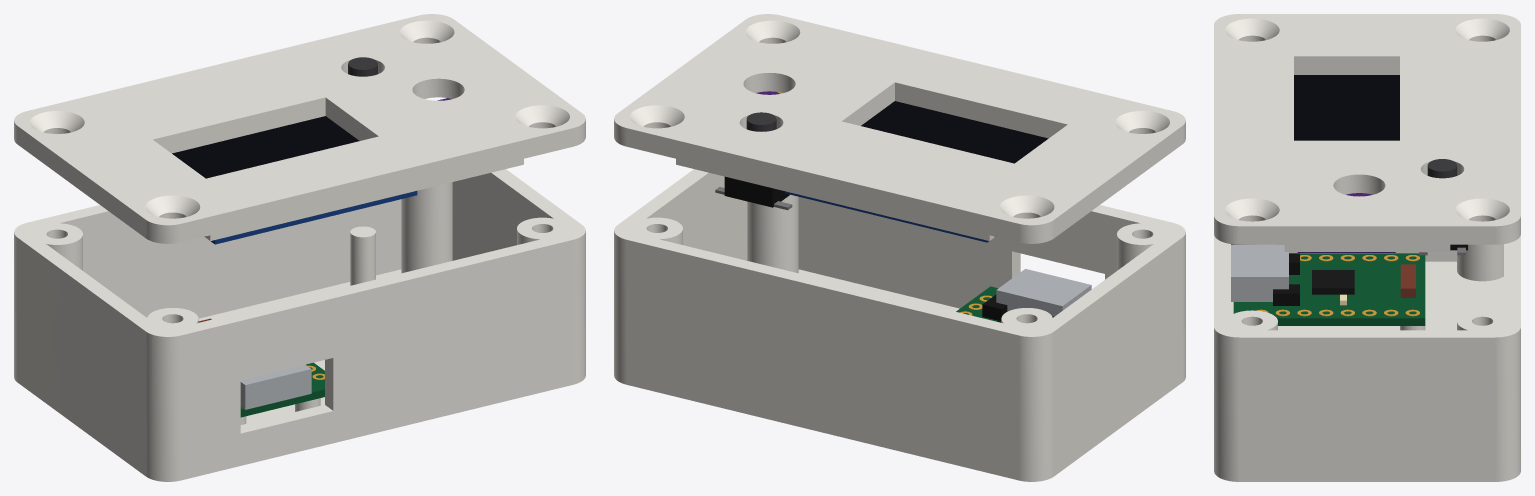
The model's file is assembly.glb.
3 views of the same model, side by side, from view 1: azimuth 30°, elevation 25°; view 2: azimuth 150°, elevation 25°; view 3: azimuth 270°, elevation 25° (orthographic).
Parts seen in each view (by area): view 1: body, lid, part:oled:display-glass, part:mcu:connector-steel, part:oled:pcb-blue, part:mcu:pcb-green; view 2: body, lid, part:oled:display-glass, part:mcu:connector-steel, part:btn:button-body; view 3: lid, body, part:mcu:pcb-green, part:oled:display-glass, part:mcu:connector-steel, part:mcu:chip, part:mcu:gold-pad, part:mcu:button-body, part:mcu:antenna, part:btn:button-cap.
Part boxes in pixels (x1=…): body: x1=14, y1=169, x2=585, y2=481; lid: x1=14, y1=14, x2=585, y2=243; part:oled:display-glass: x1=172, y1=116, x2=359, y2=178; part:mcu:connector-steel: x1=240, y1=364, x2=311, y2=409; part:oled:pcb-blue: x1=204, y1=191, x2=417, y2=244; part:mcu:pcb-green: x1=240, y1=362, x2=324, y2=417; body: x1=614, y1=169, x2=1185, y2=481; lid: x1=614, y1=14, x2=1185, y2=243; part:oled:display-glass: x1=861, y1=101, x2=1048, y2=163; part:mcu:connector-steel: x1=996, y1=269, x2=1091, y2=316; part:btn:button-body: x1=724, y1=176, x2=789, y2=207; lid: x1=1214, y1=14, x2=1520, y2=251; body: x1=1214, y1=235, x2=1520, y2=481; part:mcu:pcb-green: x1=1233, y1=253, x2=1425, y2=325; part:oled:display-glass: x1=1294, y1=75, x2=1399, y2=140; part:mcu:connector-steel: x1=1231, y1=245, x2=1288, y2=301; part:mcu:chip: x1=1312, y1=270, x2=1354, y2=294; part:mcu:gold-pad: x1=1257, y1=255, x2=1419, y2=316; part:mcu:button-body: x1=1273, y1=253, x2=1299, y2=305; part:mcu:antenna: x1=1400, y1=264, x2=1415, y2=297; part:btn:button-cap: x1=1427, y1=159, x2=1457, y2=178.
Bounding box in the file's own units: 0.0589 × 0.0336 × 0.036.
